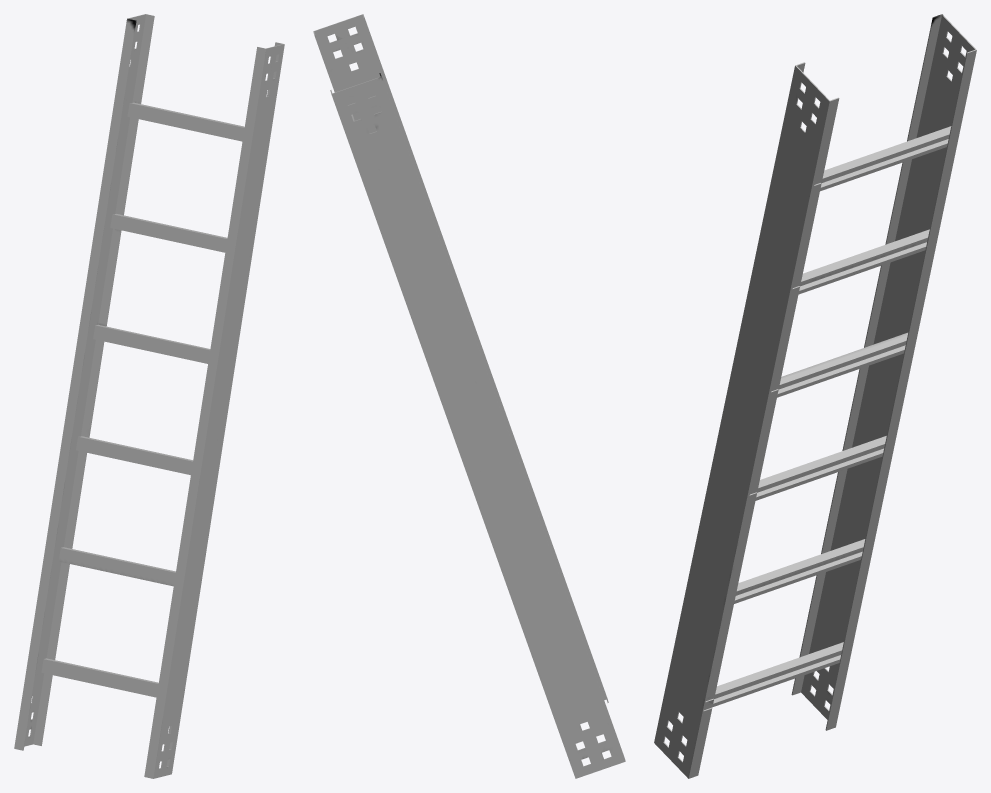
The model's file is ladder_str1.glb.
3 renders of one model, left to right at view 1: azimuth 30°, elevation 25°; view 2: azimuth 150°, elevation 25°; view 3: azimuth 270°, elevation 25°, orthographic. The views are drawn at different scales.
Visible parts, largest first — view 1: node_id5; view 2: node_id5; view 3: node_id5.
Part boxes in pixels (bbox=[...]): node_id5: bbox=[14, 14, 284, 778]; node_id5: bbox=[313, 14, 625, 778]; node_id5: bbox=[654, 14, 976, 778].
Bounding box in the file's own units: 1.1 × 2.47 × 0.9024.
Materials: 1 (1 with a texture image).
